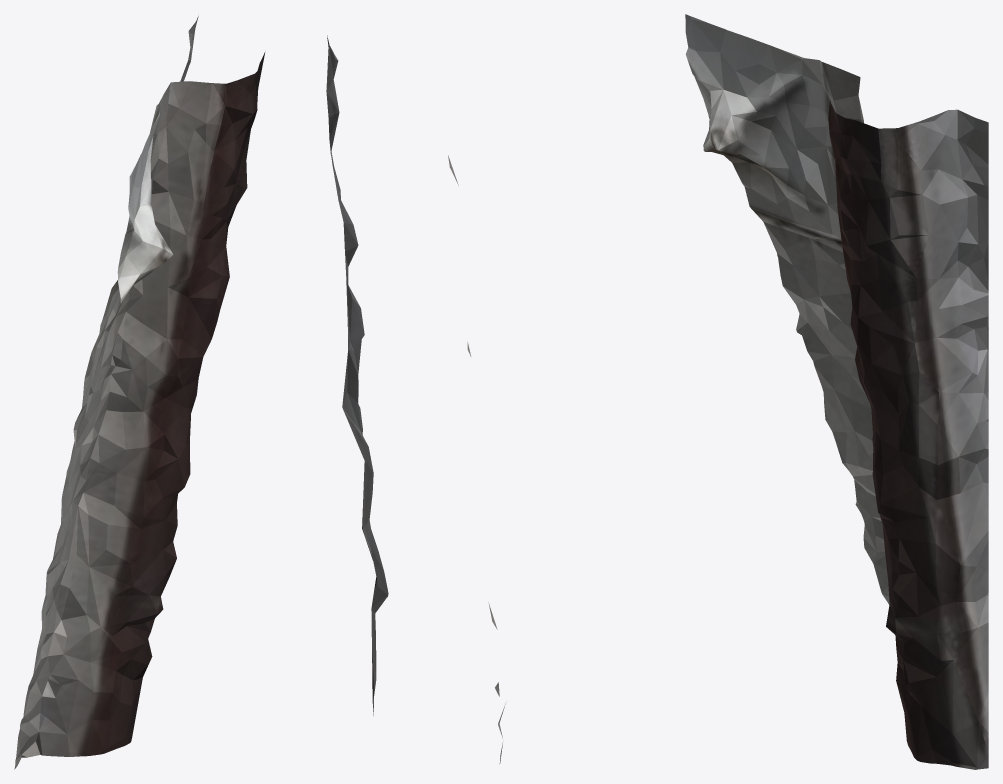
3 views of the same model, side by side, from view 1: azimuth 30°, elevation 25°; view 2: azimuth 150°, elevation 25°; view 3: azimuth 270°, elevation 25° (orthographic). The views are drawn at different scales.
Size of the model in its own units: 0.2982 by 0.8374 by 0.3339.
Materials: 2 (2 with a texture image).
